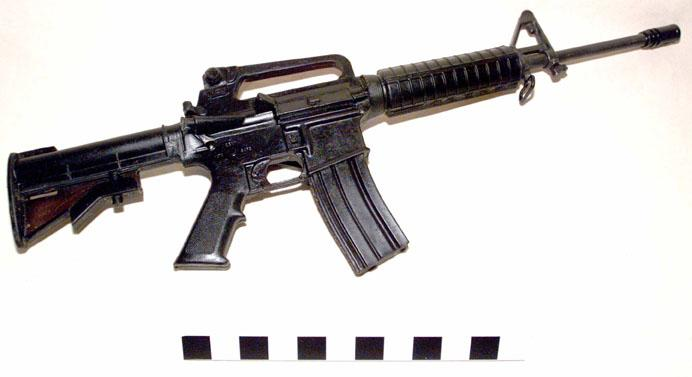Arma Real: (4, 7, 692, 280)
